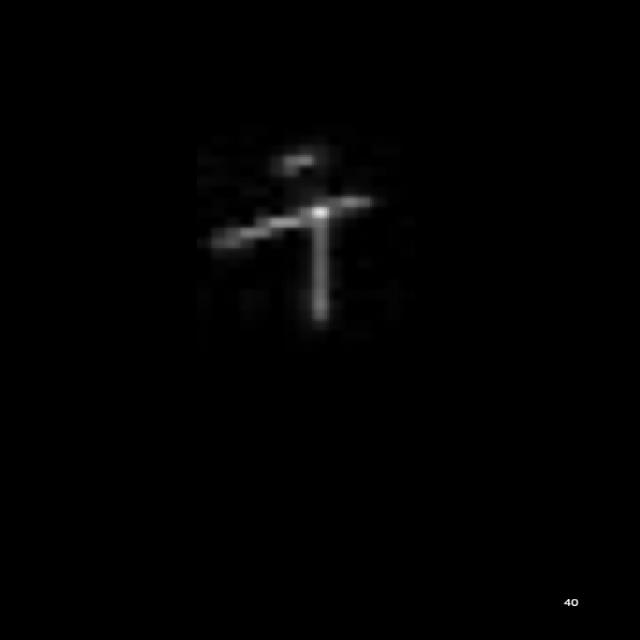1000 -a thousand-: (191, 141, 372, 332)
